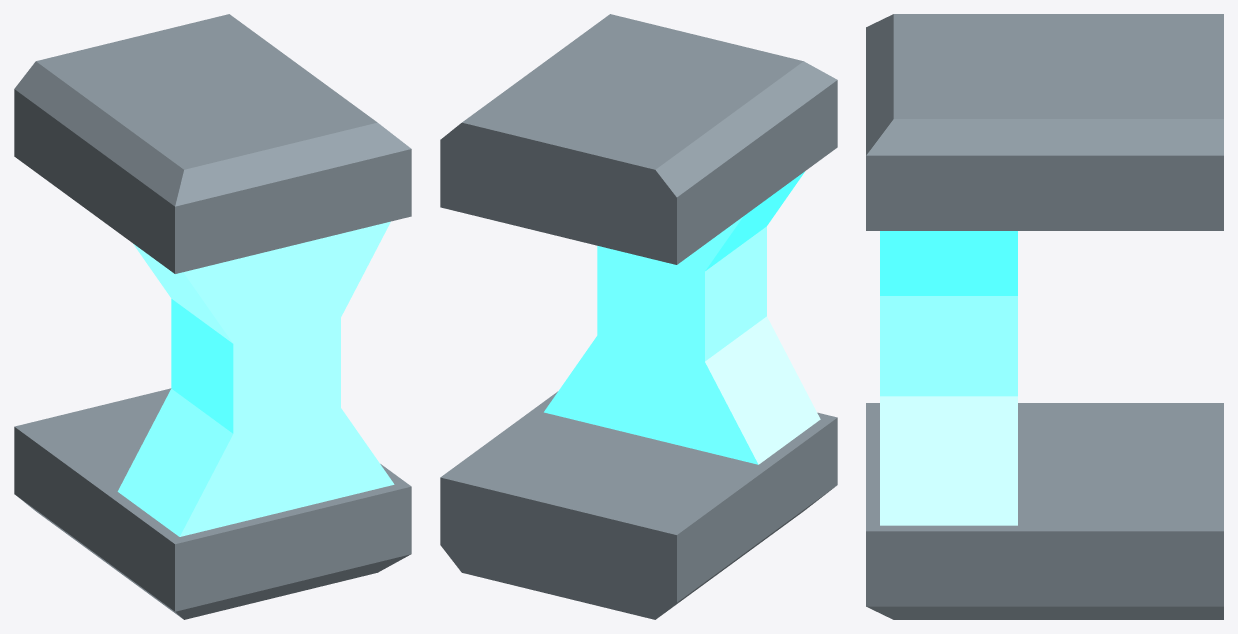
Rendered from Brazier_Small.fbx.
3 renders of one model, left to right at view 1: azimuth 30°, elevation 25°; view 2: azimuth 150°, elevation 25°; view 3: azimuth 270°, elevation 25°, orthographic. The views are drawn at different scales.
Parts seen in each view (by area): view 1: Brazier_Small; view 2: Brazier_Small; view 3: Brazier_Small.
Boxes of the visible parts, x1,y1,x2,y2 form: Brazier_Small: (14,14,411,619); Brazier_Small: (440,14,837,619); Brazier_Small: (866,14,1223,619).
Size of the model in its own units: 1.1 by 2 by 1.3.
